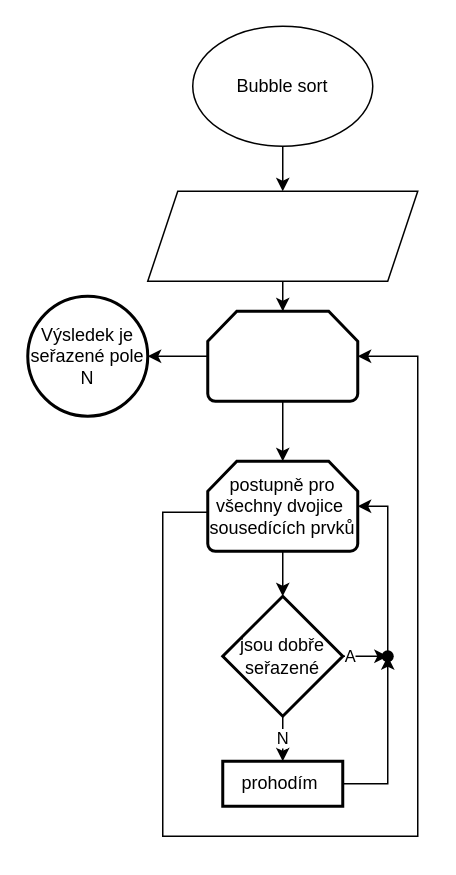
This 456x875 diagram has some shape labels left out. Here are the shapes that lost their labels. From the top down, the centre of each, then its label:
At [282,235]: "N = pole s tím co chceme porovnat".
At [282,355]: "Tolikrát jak dlouhé je pole N".
